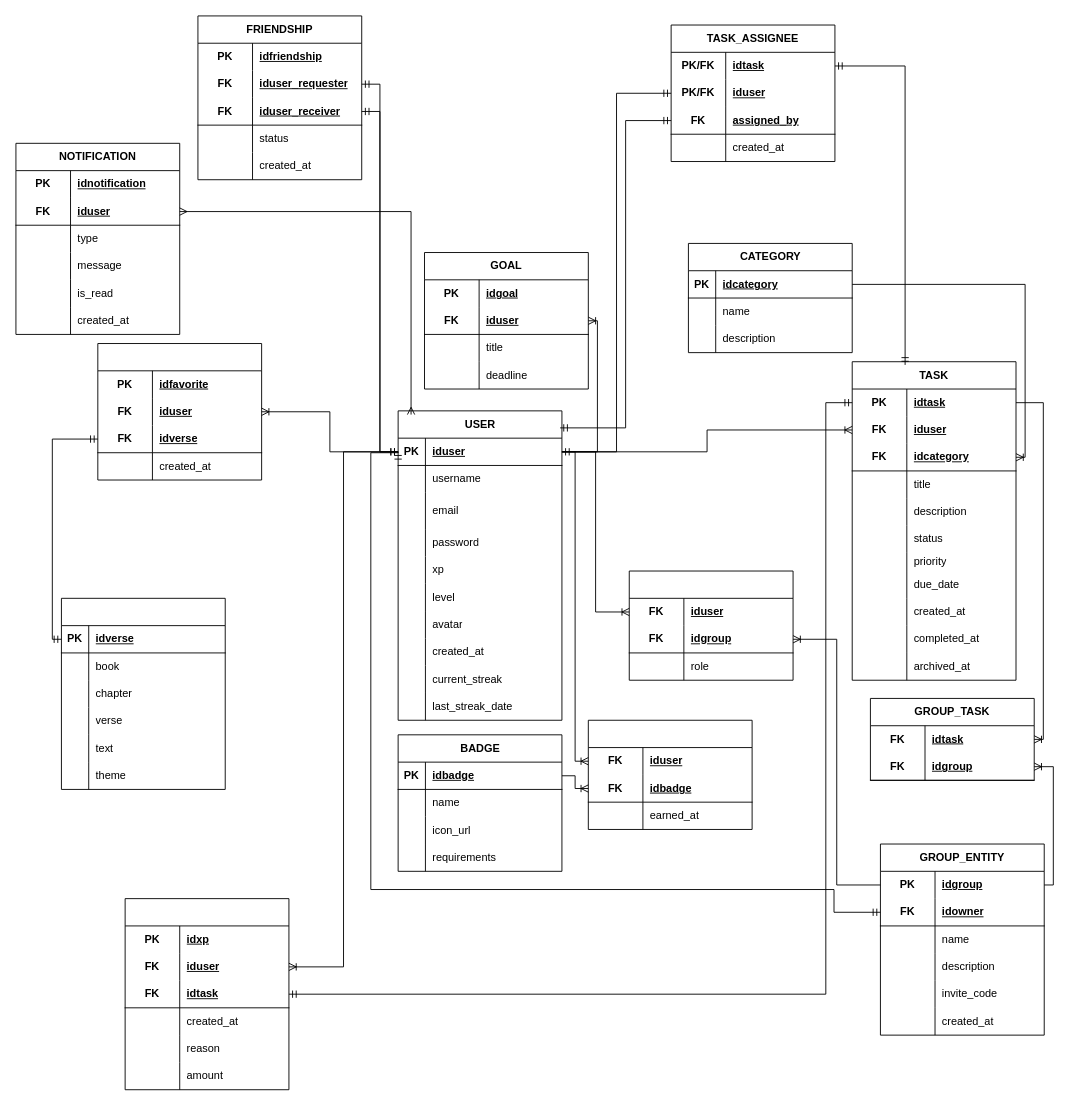
Some shapes in this 1077 by 1106 pixel diagram are drawn without their labels. Each missing label, with the box of its shape:
BIBLE_VERSE: (61, 597, 225, 789)
FAVORITE_VERSE: (97, 343, 262, 480)
GROUP_MEMBER: (628, 570, 793, 680)
USER_BADGE: (587, 719, 752, 829)
XP_HISTORY: (124, 898, 289, 1090)
